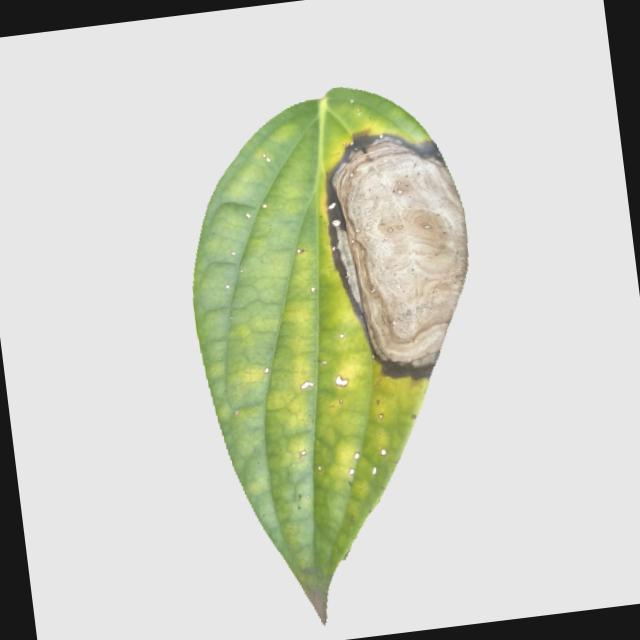leaf-blight: (157, 76, 544, 639)
